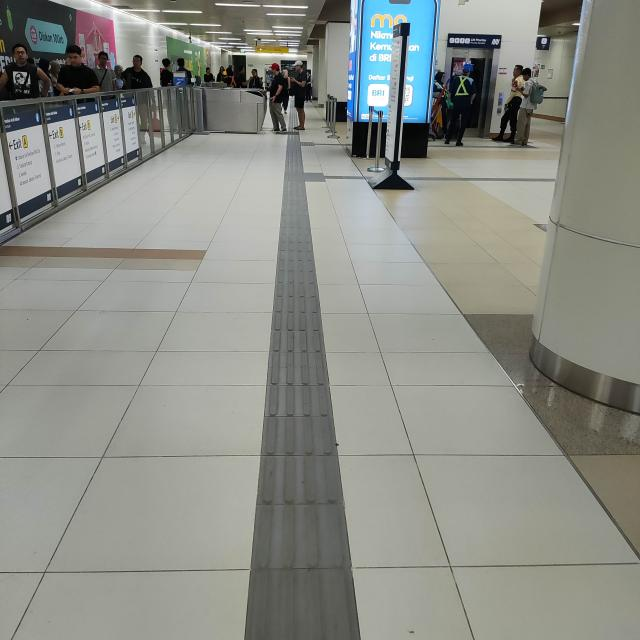lurus: (262, 170, 350, 640)
